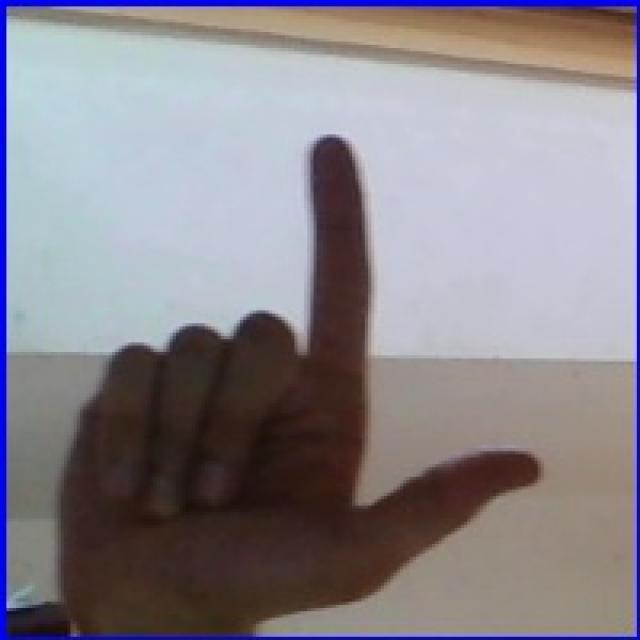Letra L: (37, 128, 556, 628)
